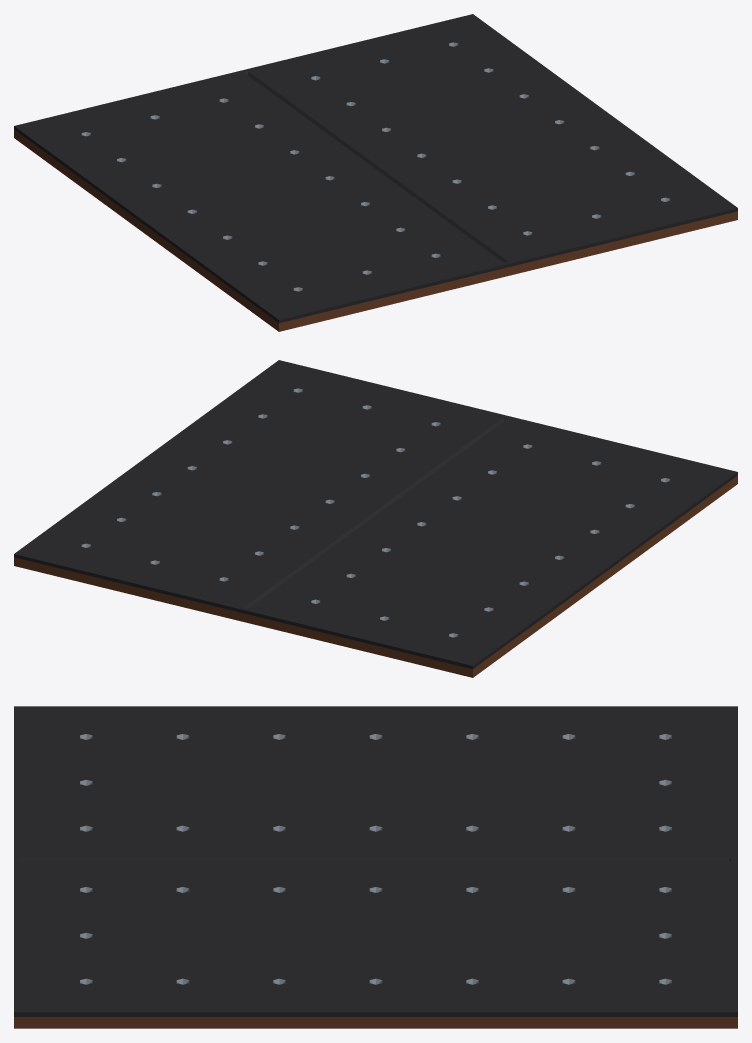
The model's file is composite-ramp-floor-tile-4a9e73.glb.
3 renders of one model, top to bottom at view 1: azimuth 30°, elevation 25°; view 2: azimuth 150°, elevation 25°; view 3: azimuth 270°, elevation 25°, orthographic. The views are drawn at different scales.
Visible parts, largest first — view 1: ramp-floor; view 2: ramp-floor; view 3: ramp-floor.
Part boxes in pixels (x1,y1,x2,y2): ramp-floor: (14,14,737,331); ramp-floor: (14,360,737,677); ramp-floor: (14,706,737,1028).
Bounding box in the file's own units: 2 × 0.05 × 2.
